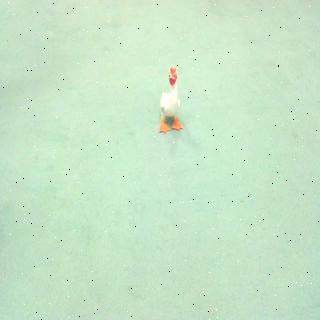duck: (145, 64, 198, 135)
